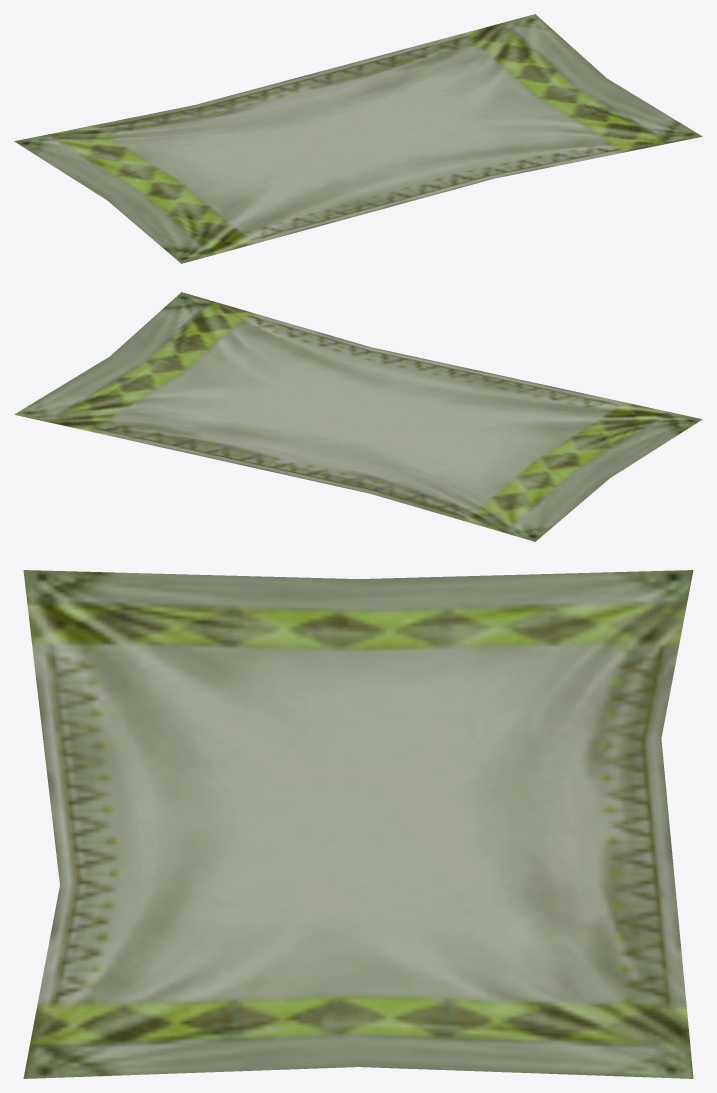
The model's file is xiao_tan_003.FBX.
3 renders of one model, top to bottom at view 1: azimuth 30°, elevation 25°; view 2: azimuth 150°, elevation 25°; view 3: azimuth 270°, elevation 25°, orthographic. The views are drawn at different scales.
Visible parts, largest first — view 1: xiao_tan_003; view 2: xiao_tan_003; view 3: xiao_tan_003.
Boxes of the visible parts, left/top/right/bottom form: xiao_tan_003: left=14, top=14, right=702, bottom=263; xiao_tan_003: left=14, top=292, right=702, bottom=541; xiao_tan_003: left=23, top=570, right=693, bottom=1078.
Size of the model in its own units: 408 by 0.8334 by 227.
1 material, 1 textured.
